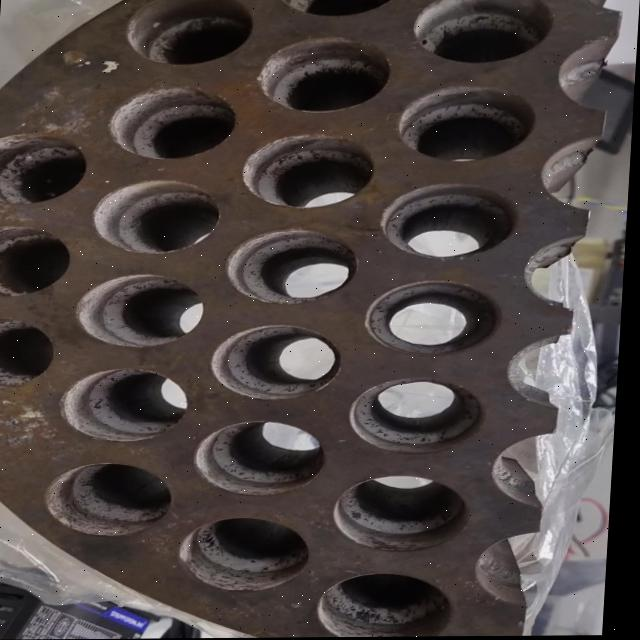Hole: (380, 183, 524, 261), (336, 474, 478, 553), (397, 84, 539, 162), (351, 378, 493, 455), (367, 280, 509, 356), (227, 228, 364, 305), (256, 37, 394, 113), (212, 324, 348, 401), (242, 134, 379, 210), (47, 462, 181, 538), (198, 421, 333, 496), (183, 518, 319, 592), (107, 86, 241, 160), (77, 274, 209, 349), (92, 180, 225, 254), (63, 368, 194, 443), (412, 0, 554, 66), (323, 572, 464, 638), (125, 0, 256, 66), (0, 133, 92, 205), (0, 226, 76, 297), (0, 319, 60, 390), (275, 0, 408, 18)
